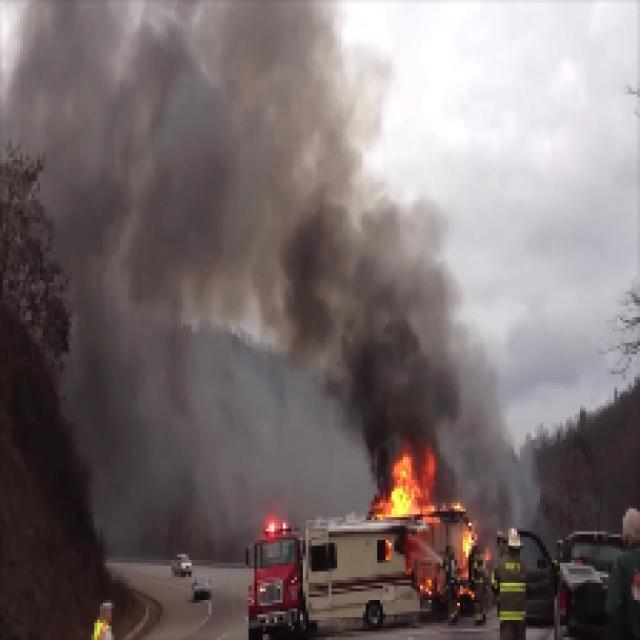Fire: (375, 456, 441, 521)
Smoke: (40, 4, 336, 371), (343, 202, 478, 444)
